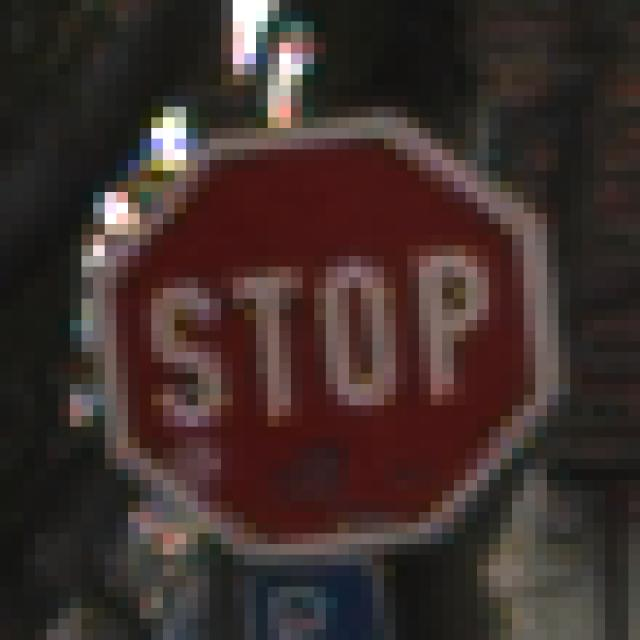STOP: (59, 65, 583, 577)
